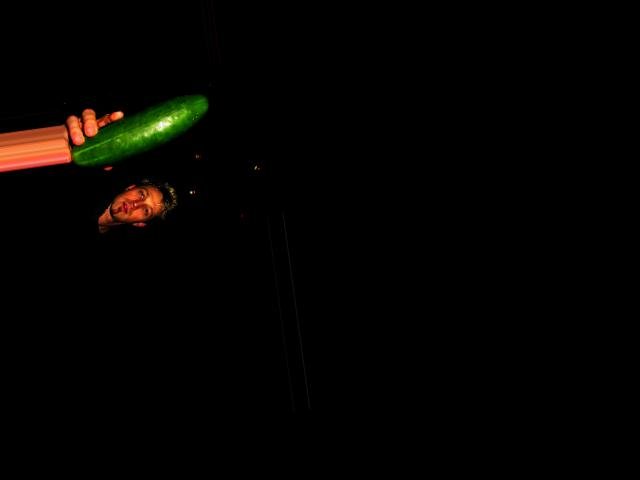cucumber: (66, 91, 214, 168)
